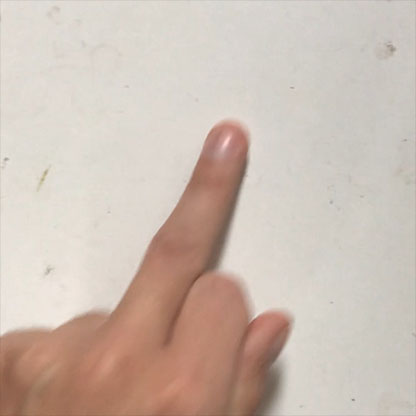fingertip: (197, 108, 259, 169)
